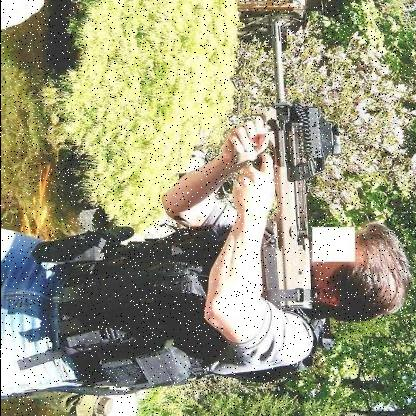rifle: (205, 19, 358, 321)
